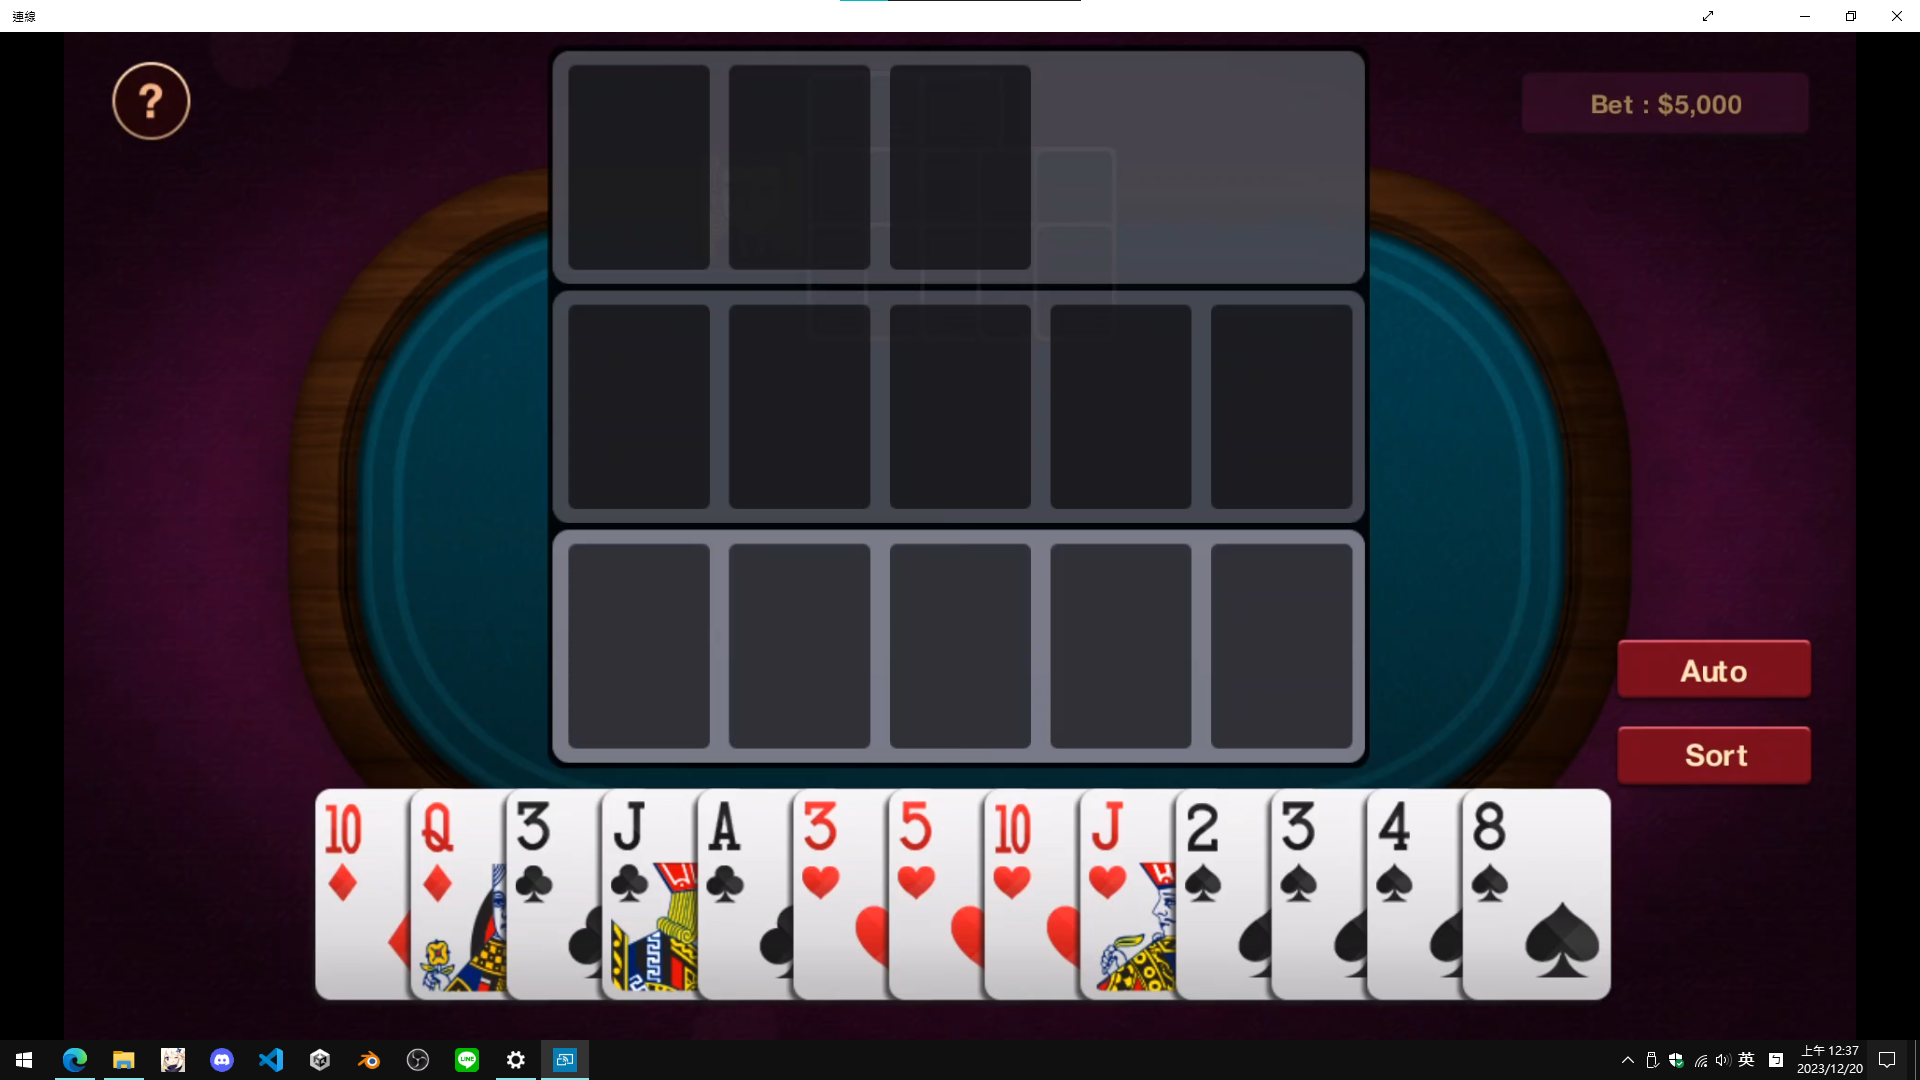10D: (324, 799, 363, 910)
10H: (992, 798, 1031, 906)
2S: (1180, 799, 1226, 907)
3C: (510, 795, 559, 911)
3H: (796, 794, 845, 907)
3S: (1274, 798, 1325, 906)
4S: (1373, 798, 1419, 910)
5H: (893, 794, 939, 911)
8S: (1466, 794, 1513, 915)
AC: (703, 795, 750, 911)
JC: (605, 794, 655, 907)
JH: (1084, 795, 1134, 906)
QD: (415, 798, 460, 907)
